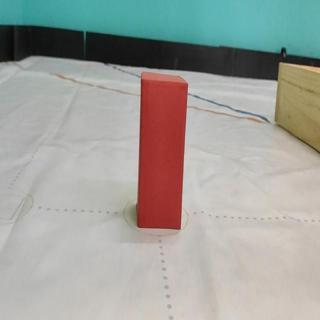redbox: (137, 73, 189, 229)
